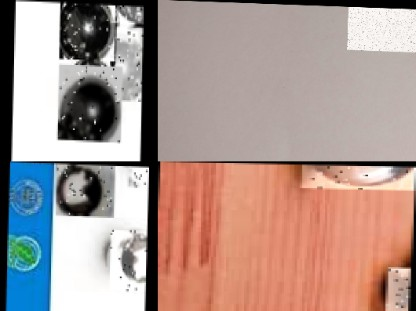ironball: (56, 63, 121, 141), (58, 1, 115, 60), (54, 163, 113, 217), (298, 164, 413, 189), (108, 229, 147, 291), (113, 25, 143, 100), (384, 267, 411, 311), (109, 3, 143, 22), (126, 165, 149, 186)
